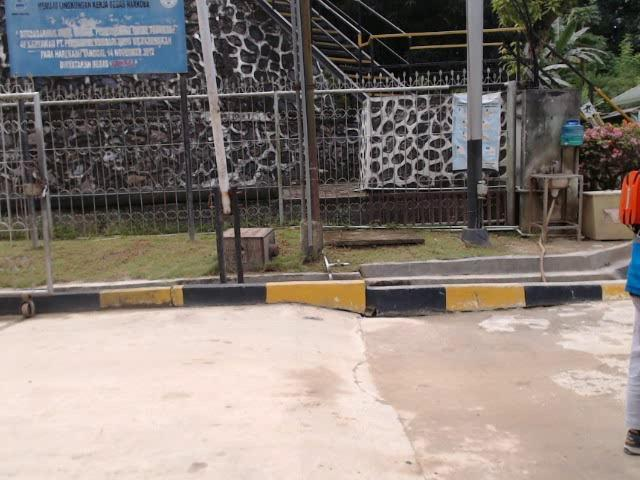vest: (619, 166, 640, 231)
